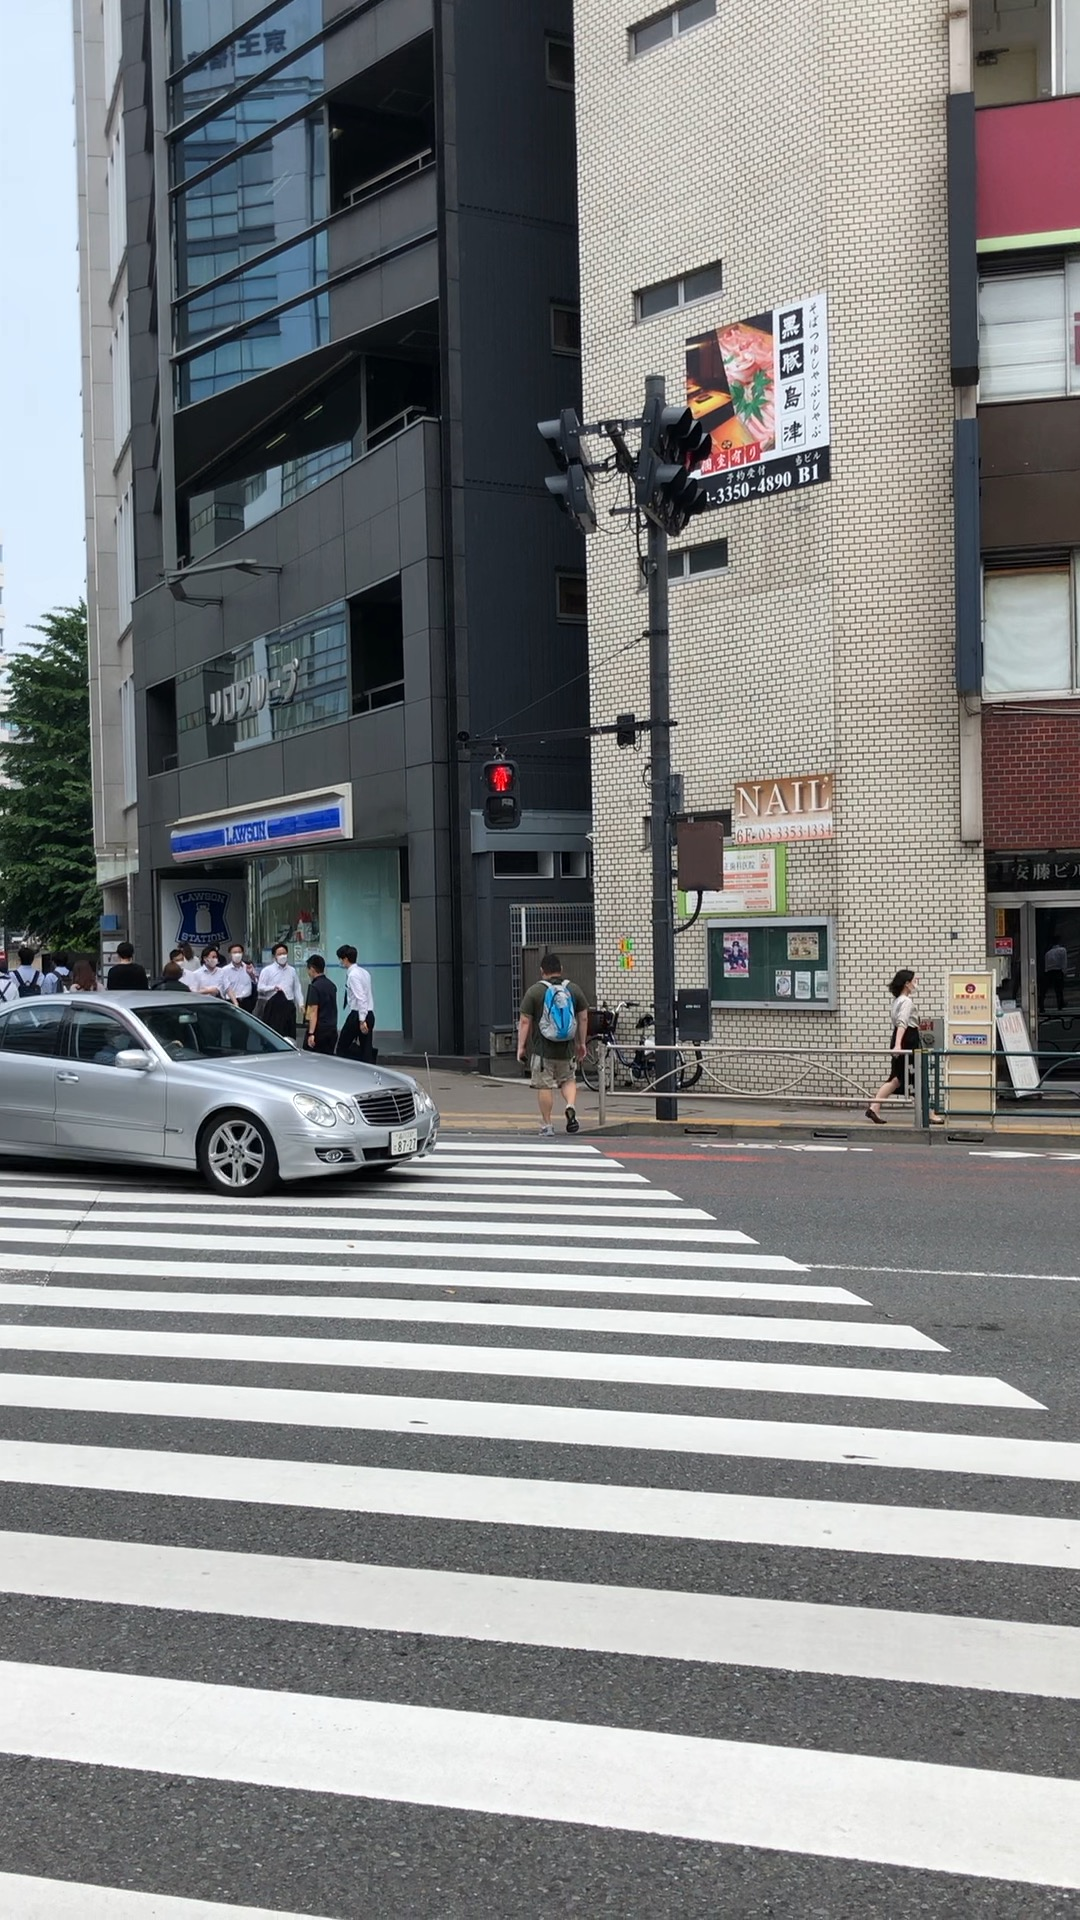red: (483, 760, 524, 831)
